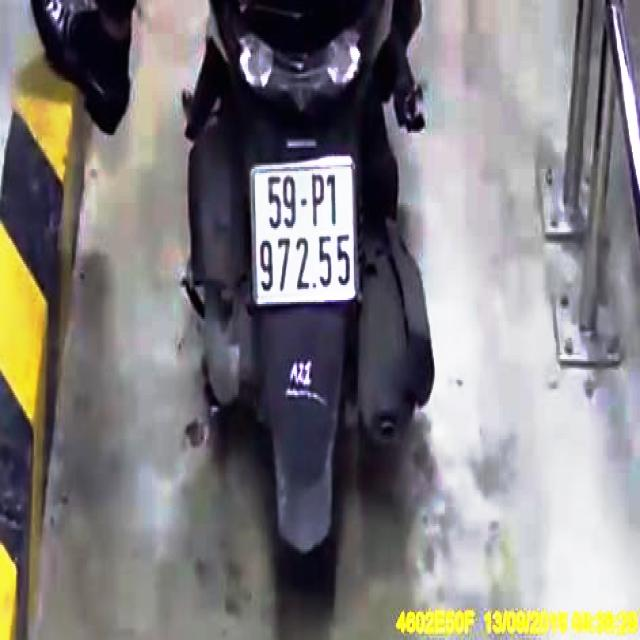license_plate: (250, 157, 358, 306)
